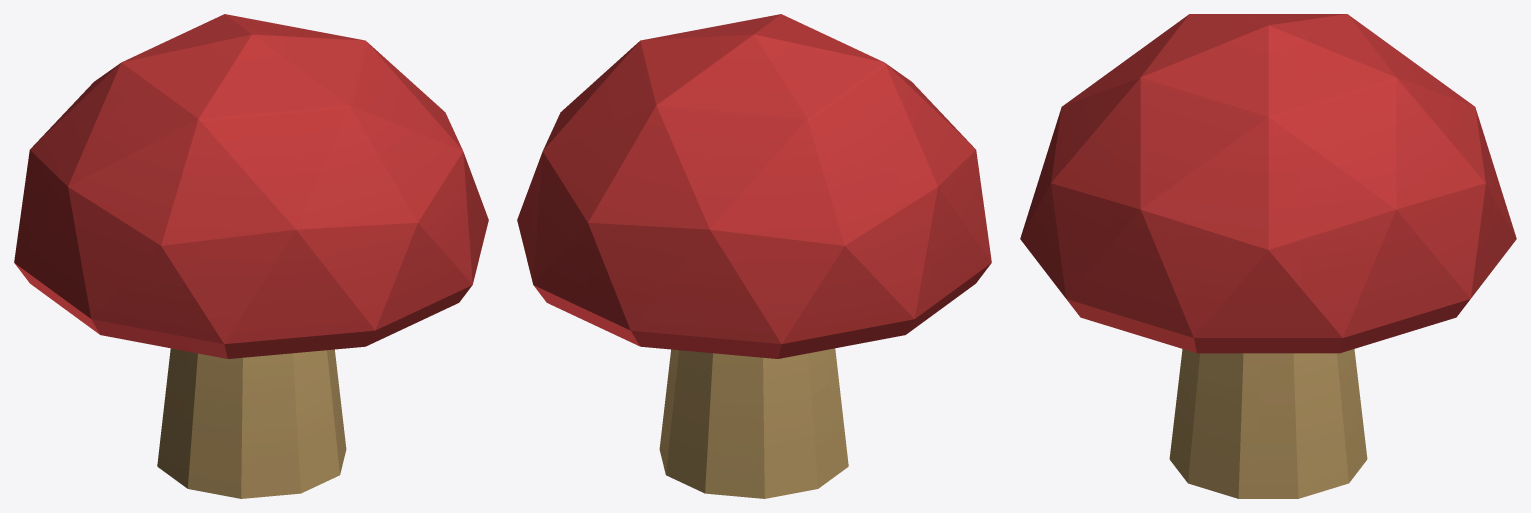
Rendered from Mushroom.fbx.
The picture shows the model from 3 angles, left to right: view 1: azimuth 30°, elevation 25°; view 2: azimuth 150°, elevation 25°; view 3: azimuth 270°, elevation 25°; orthographic projection. The views are drawn at different scales.
Parts seen in each view (by area): view 1: Moshroom; view 2: Moshroom; view 3: Moshroom.
Boxes of the visible parts, x1,y1,x2,y2 form: Moshroom: (14, 14, 488, 498); Moshroom: (517, 14, 991, 498); Moshroom: (1020, 14, 1516, 498).
Bounding box in the file's own units: 106 × 107 × 112.
